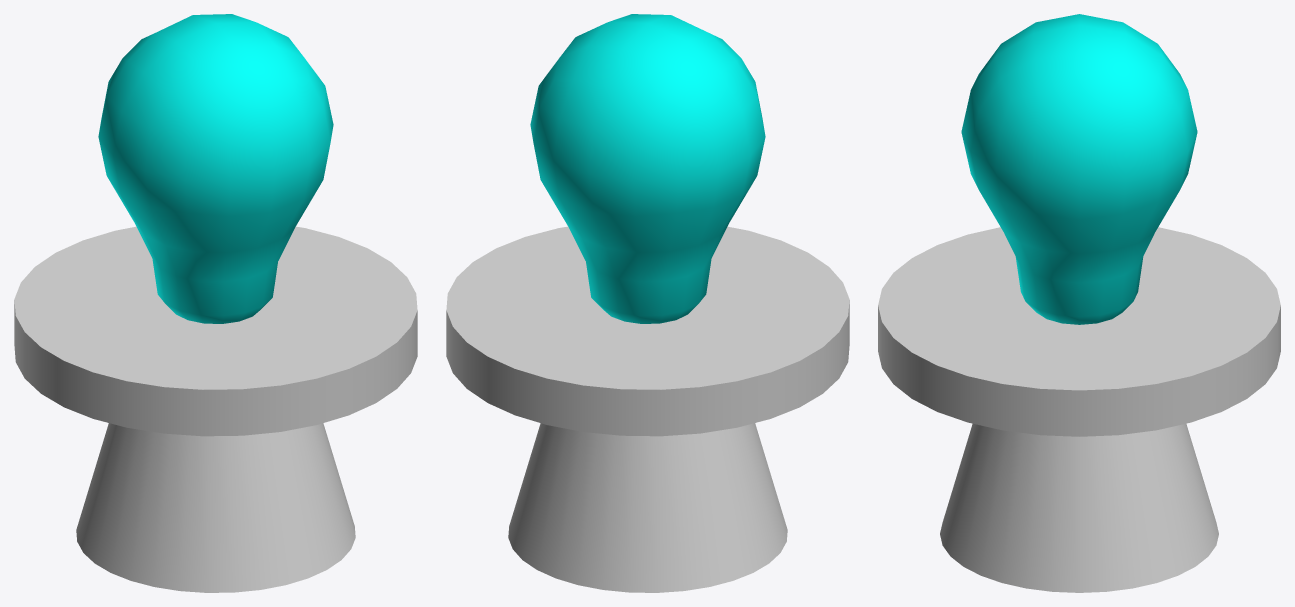
File: Foco.fbx
3 views of the same model, side by side, from view 1: azimuth 30°, elevation 25°; view 2: azimuth 150°, elevation 25°; view 3: azimuth 270°, elevation 25° (orthographic).
Parts seen in each view (by area): view 1: Foco; view 2: Foco; view 3: Foco.
Boxes of the visible parts, x1=… form: Foco: x1=14, y1=14, x2=417, y2=592; Foco: x1=446, y1=14, x2=849, y2=592; Foco: x1=878, y1=14, x2=1280, y2=592.
Bounding box in the file's own units: 31.31 × 31.31 × 43.65.
